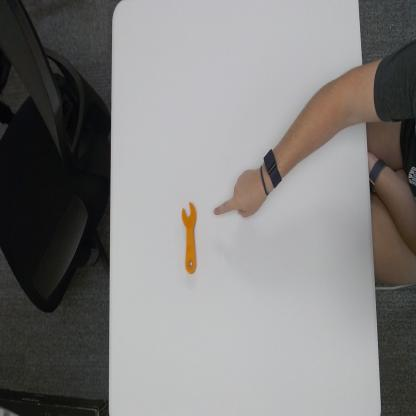Arm: (283, 72, 370, 165)
Hand: (212, 167, 268, 222)
Screwdriver: (181, 201, 199, 275)
